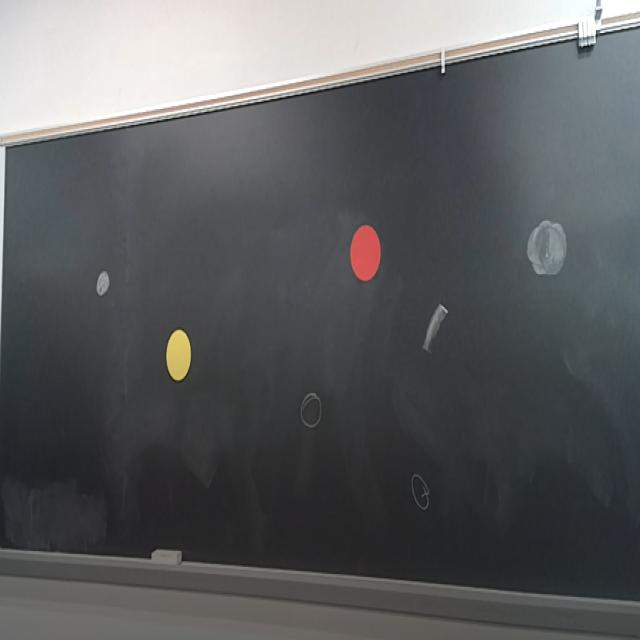Red: (351, 224, 381, 280)
Yellow: (166, 331, 192, 382)
